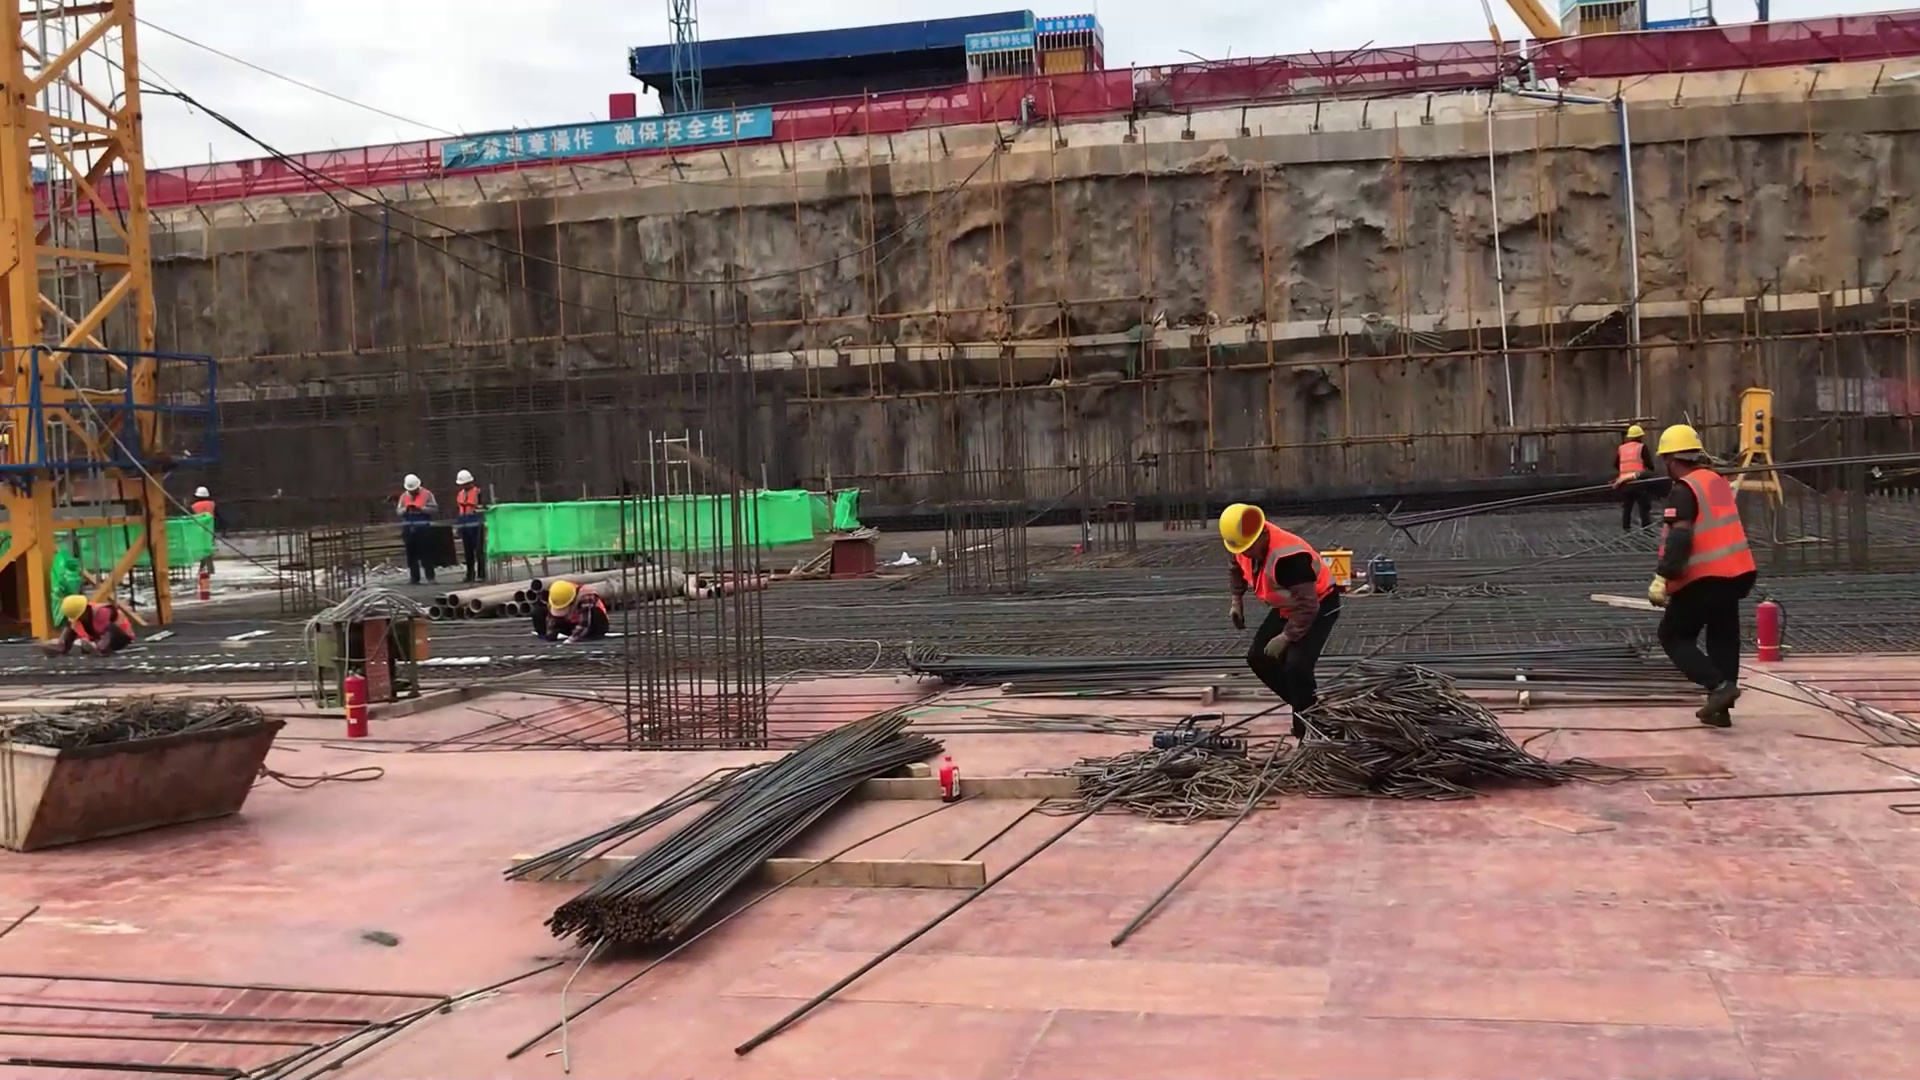helmet: (1220, 503, 1265, 554), (1657, 425, 1704, 456), (549, 581, 575, 608), (61, 596, 87, 621), (403, 474, 421, 490), (455, 470, 474, 484), (1627, 425, 1645, 438), (195, 487, 209, 498)
person: (1648, 421, 1757, 729), (1219, 503, 1341, 742), (56, 594, 135, 659), (397, 472, 441, 585), (1614, 423, 1655, 533), (545, 580, 610, 643), (454, 469, 487, 582), (190, 485, 218, 575)
vest: (1662, 469, 1754, 591), (1232, 535, 1335, 621), (75, 604, 135, 645), (564, 590, 606, 622), (404, 490, 430, 533), (458, 488, 480, 534), (1619, 442, 1643, 475)
